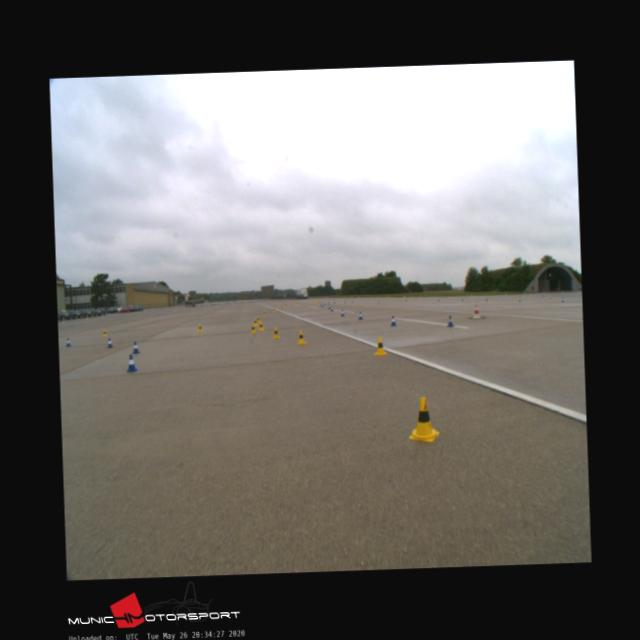blue_cone: (125, 354, 136, 370), (130, 341, 138, 354), (446, 315, 454, 326), (390, 315, 396, 325), (106, 337, 112, 347), (65, 338, 71, 347), (358, 311, 363, 319), (340, 308, 344, 316)
yellow_cone: (408, 396, 439, 442), (373, 336, 386, 354), (296, 331, 306, 344), (272, 327, 280, 338), (250, 324, 256, 333), (258, 321, 264, 330), (252, 318, 258, 326), (102, 328, 107, 336), (197, 324, 202, 332), (256, 315, 260, 322)
